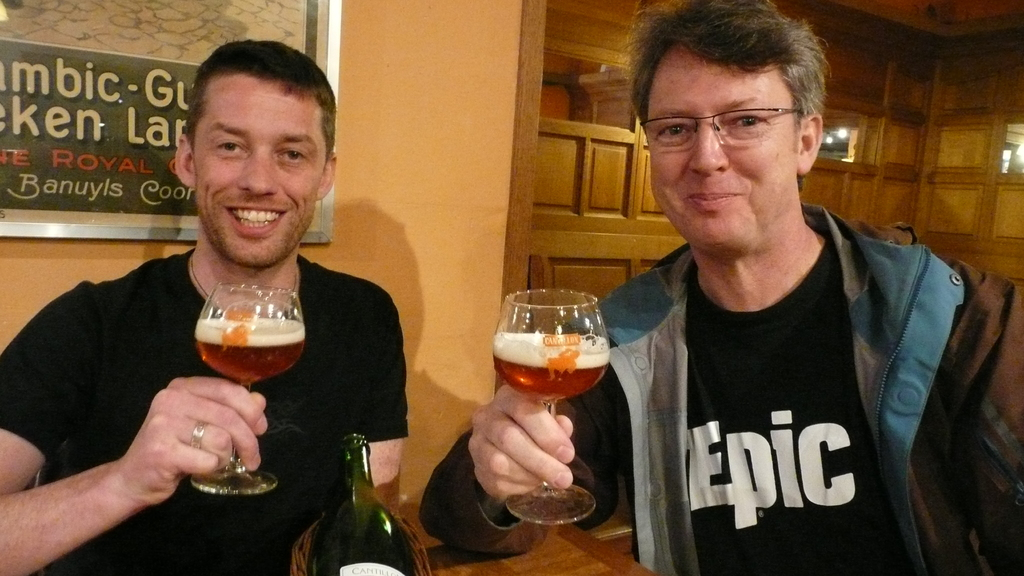Beer: (482, 285, 610, 529), (189, 280, 307, 519)
